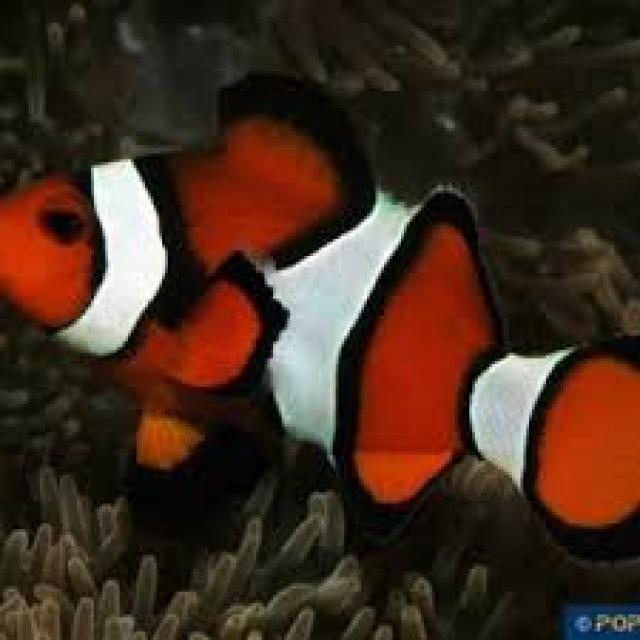ClownFish: (1, 69, 636, 558)
